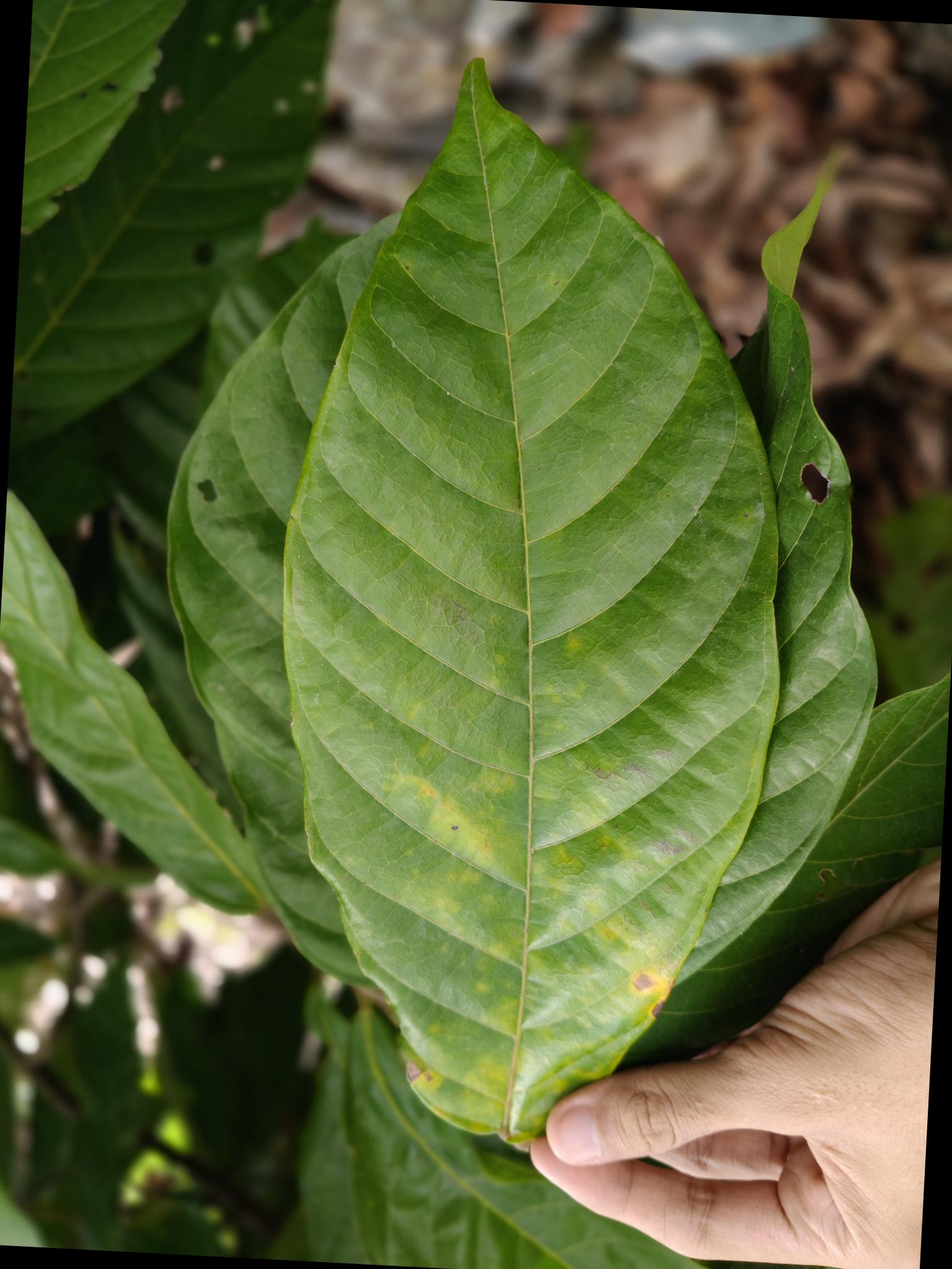Fosforo: (286, 51, 779, 1152)
